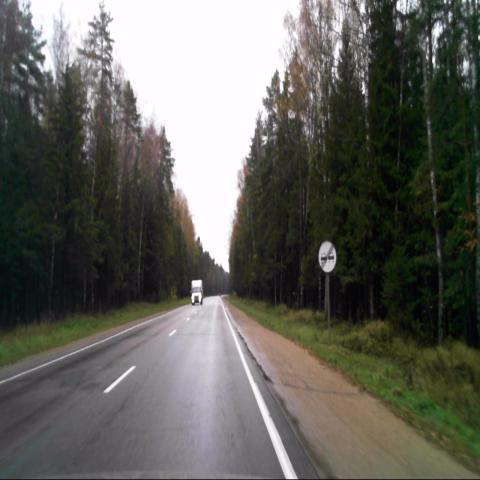3_21: (318, 239, 337, 274)
